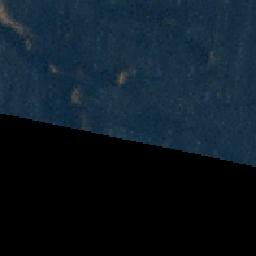debris: (1, 2, 18, 34), (19, 23, 35, 50), (113, 69, 135, 86), (68, 89, 82, 105), (81, 113, 87, 131), (47, 64, 60, 72)
